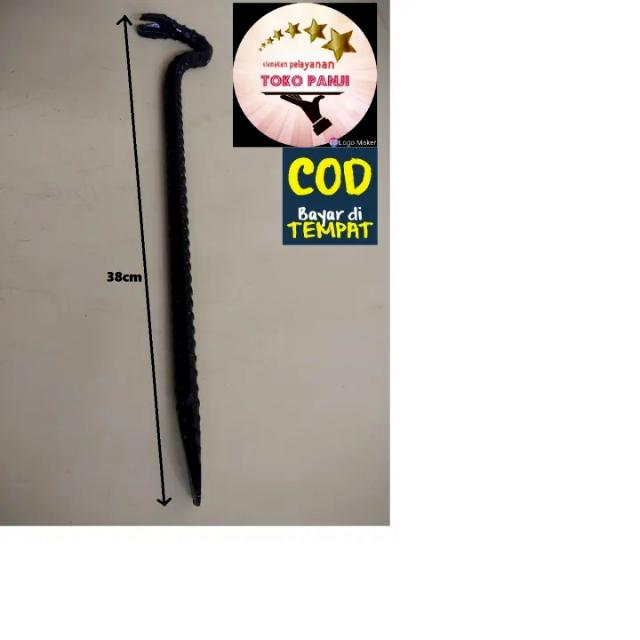crow bar: (135, 0, 222, 507)
